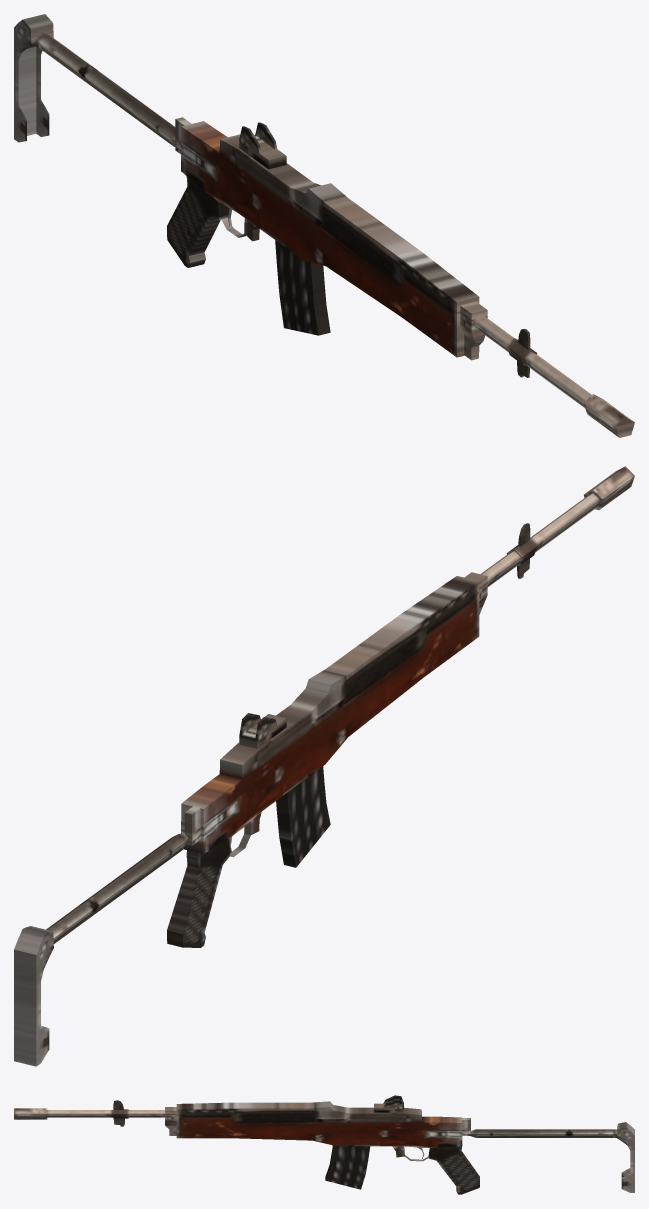
The model's file is Mini14.fbx.
The picture shows the model from 3 angles, top to bottom: view 1: azimuth 30°, elevation 25°; view 2: azimuth 150°, elevation 25°; view 3: azimuth 270°, elevation 25°; orthographic projection. The views are drawn at different scales.
Parts seen in each view (by area): view 1: Mni14; view 2: Mni14; view 3: Mni14.
Boxes of the visible parts, box(x1,y1,x2,y2) form: Mni14: box(14, 14, 634, 437); Mni14: box(14, 466, 634, 1066); Mni14: box(14, 1095, 634, 1194).
Bounding box in the file's own units: 2 × 92.62 × 15.64.
